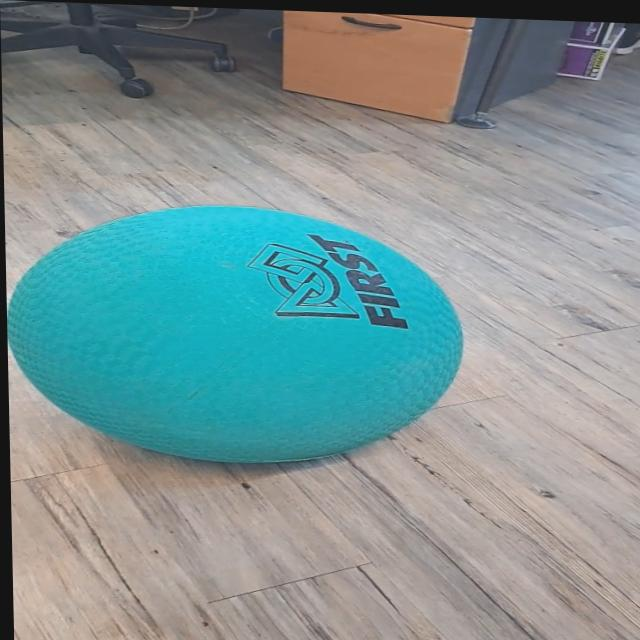ALGAE: (5, 196, 468, 473)
